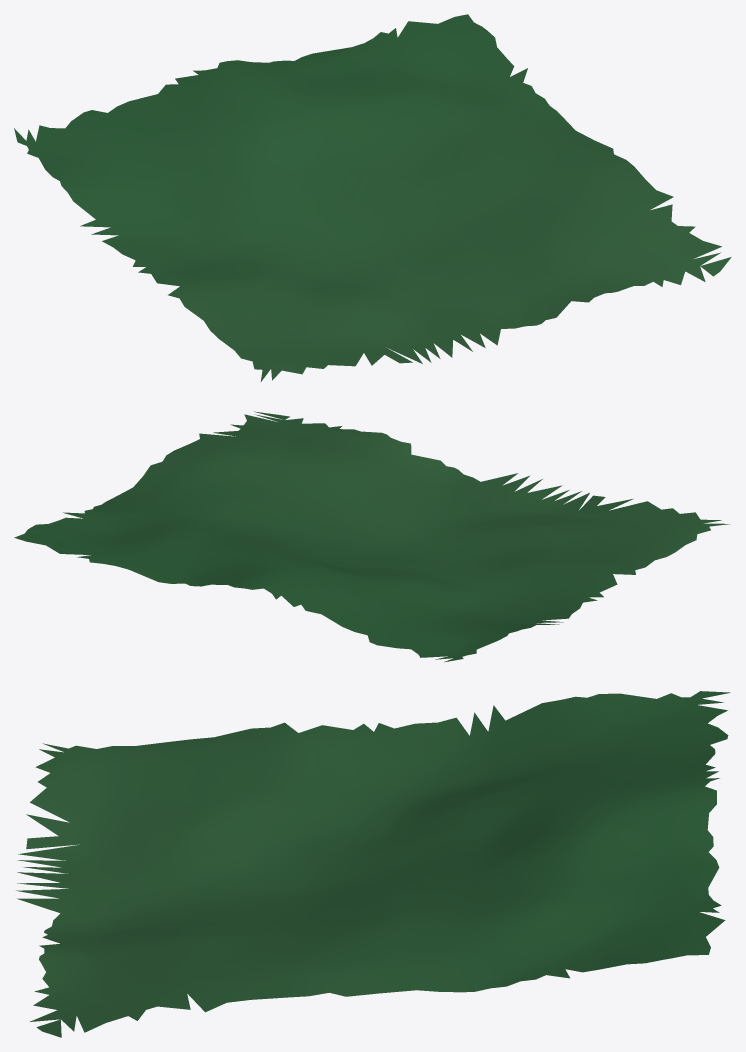
The model's file is payo_land_x2_y6_lod1.glb.
3 views of the same model, one above another, from view 1: azimuth 30°, elevation 25°; view 2: azimuth 150°, elevation 25°; view 3: azimuth 270°, elevation 25° (orthographic). The views are drawn at different scales.
Parts seen in each view (by area): view 1: payo_land_x2_y6; view 2: payo_land_x2_y6; view 3: payo_land_x2_y6.
Boxes of the visible parts, box(x1,y1,x2,y2) form: payo_land_x2_y6: box(14, 14, 731, 381); payo_land_x2_y6: box(14, 411, 729, 662); payo_land_x2_y6: box(16, 691, 730, 1037).
Bounding box in the file's own units: 273 × 45.84 × 274.
